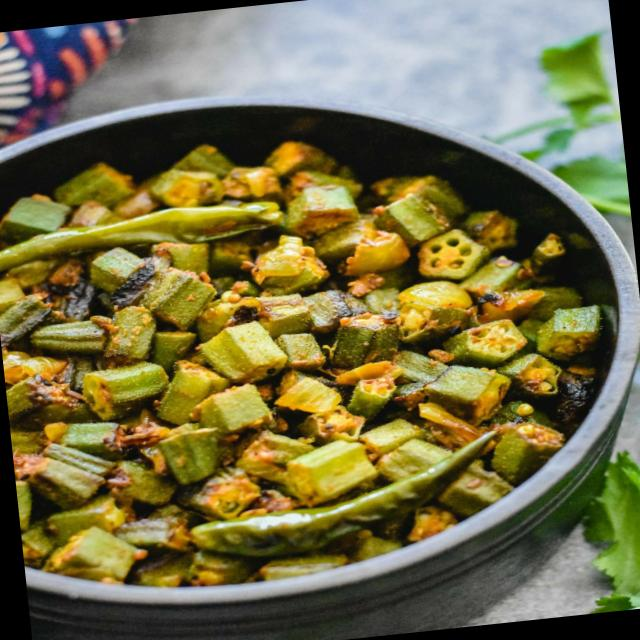BhindiMasala: (0, 105, 630, 607)
